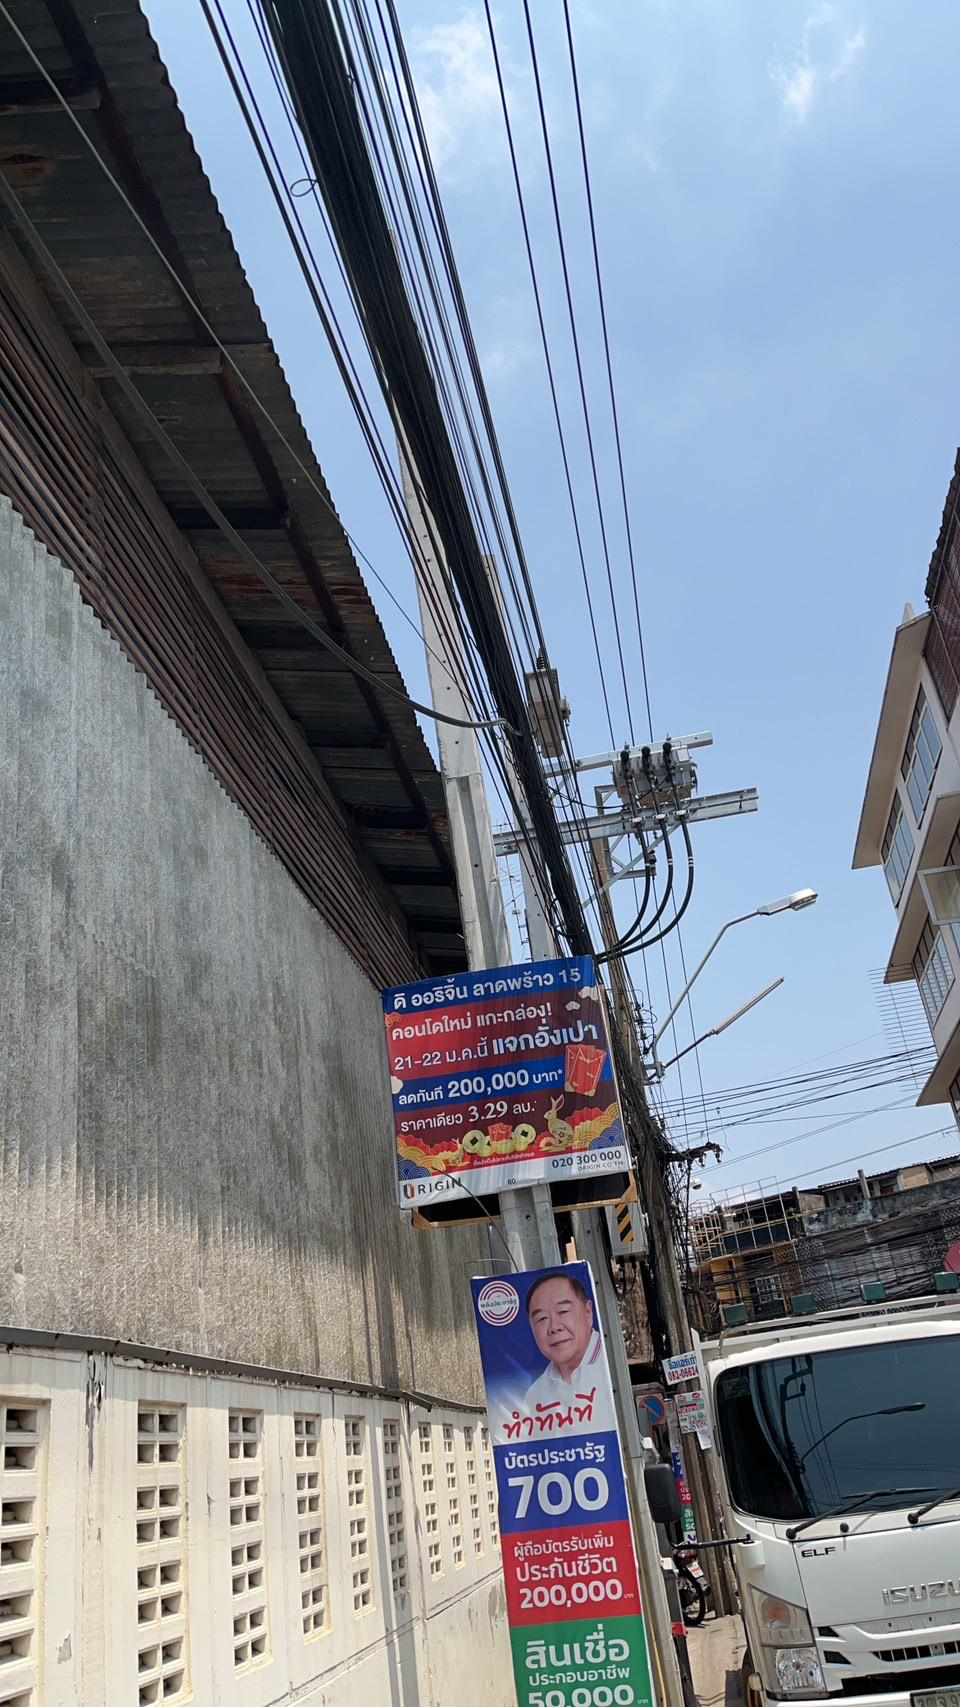Banner: (464, 1272, 659, 1707)
